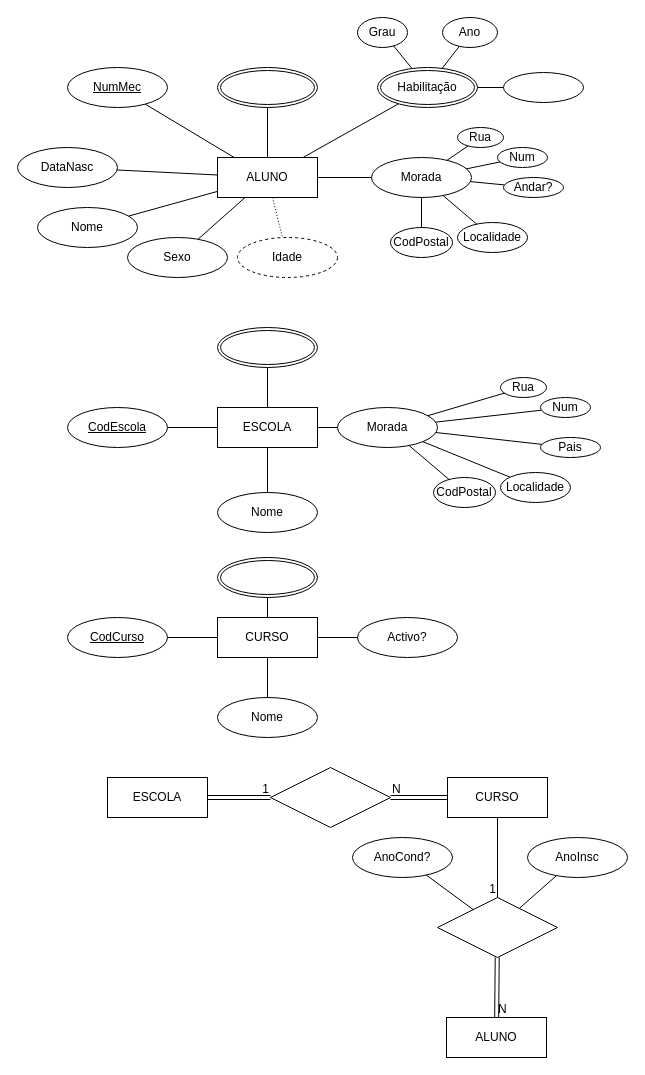
Image size: 645x1075. Some labels were removed from this diagram. Each missing label, with the centre of its shape:
"Disciplinas" goes at point 267,577.
"INSCRITO_EM" goes at point 497,927.
"Instituição" goes at point 543,87.
"LECCIONA" goes at point 330,797.
"NumTelef" goes at point 267,87.
"Telefone" goes at point 267,347.
